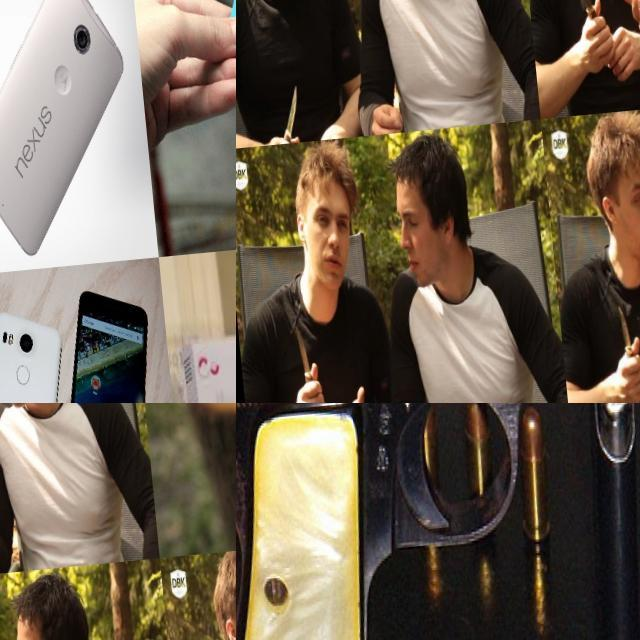-: (275, 315, 315, 403), (596, 303, 635, 389), (561, 0, 607, 56), (261, 79, 299, 145), (0, 444, 19, 532)
gun-knife-thesis - v11 Yolov5 augmented: (236, 403, 640, 640)
